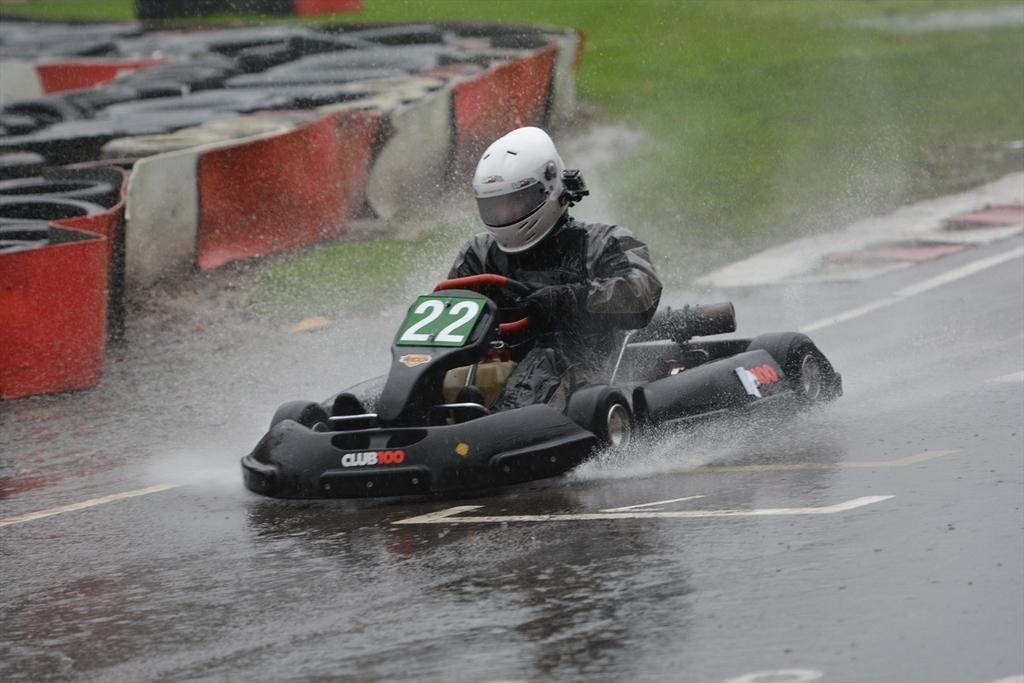helmet: (472, 126, 572, 255)
